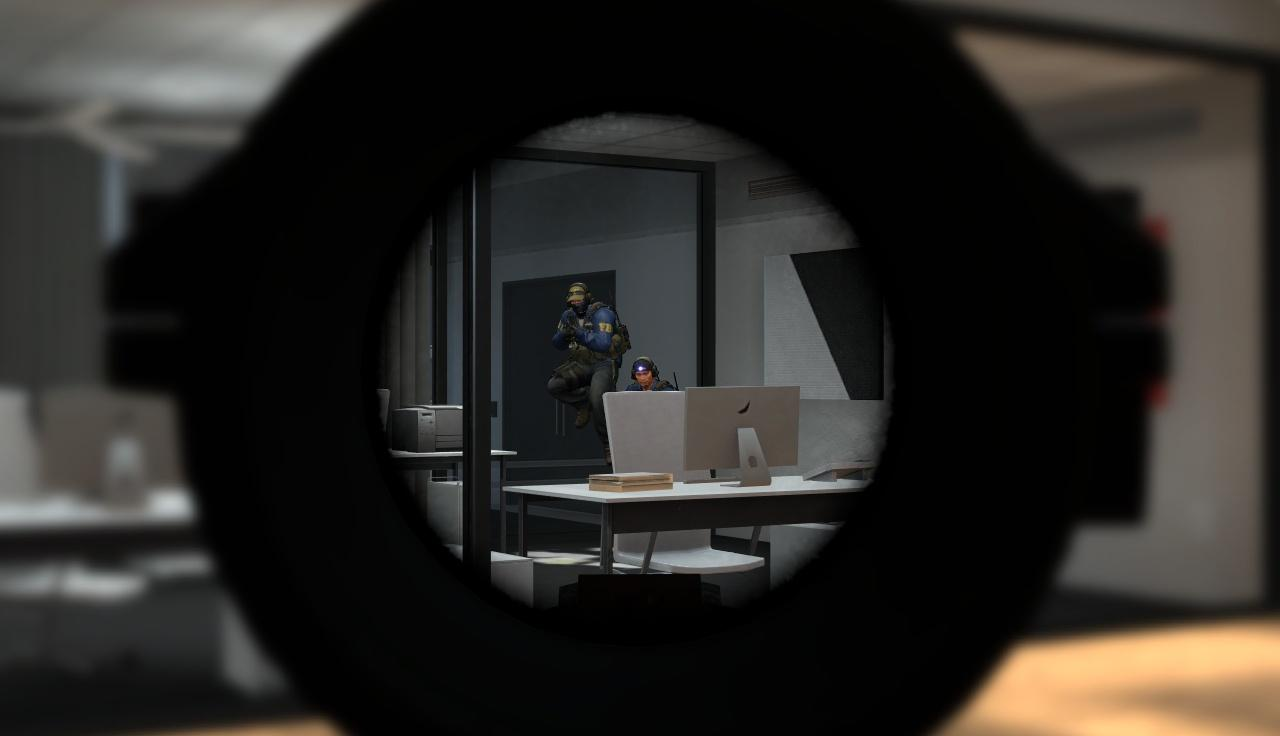ct: (553, 283, 614, 427)
cthead: (567, 283, 592, 315), (633, 357, 657, 387)
